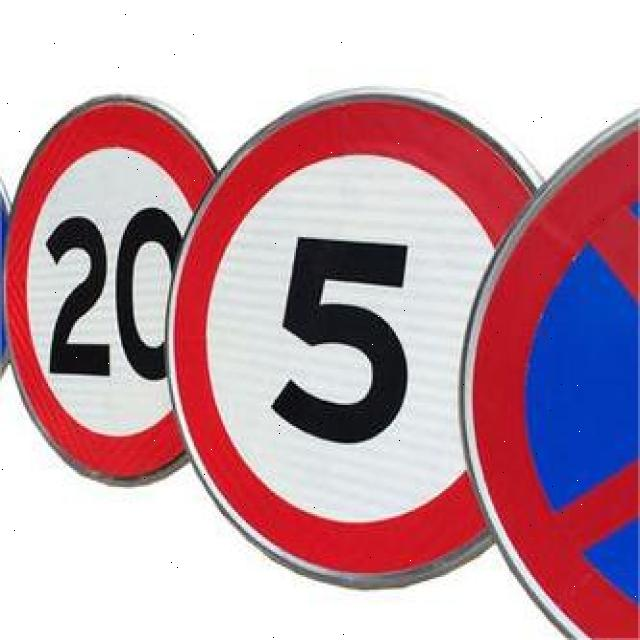speed limit 10: (170, 91, 550, 587)
speed limit 20: (0, 94, 223, 486)
